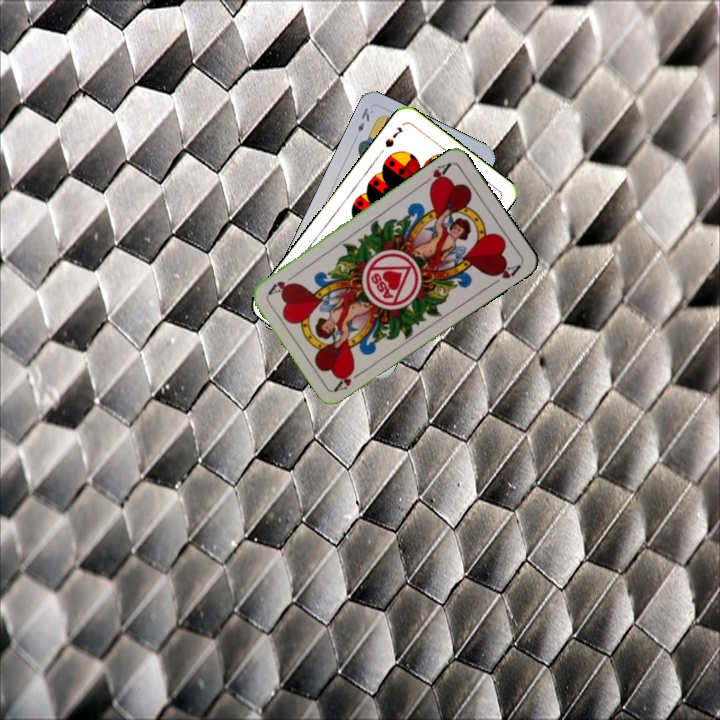EK: (354, 104, 376, 135)
HA: (418, 159, 454, 191), (331, 366, 367, 394)
S7: (381, 122, 406, 150)
